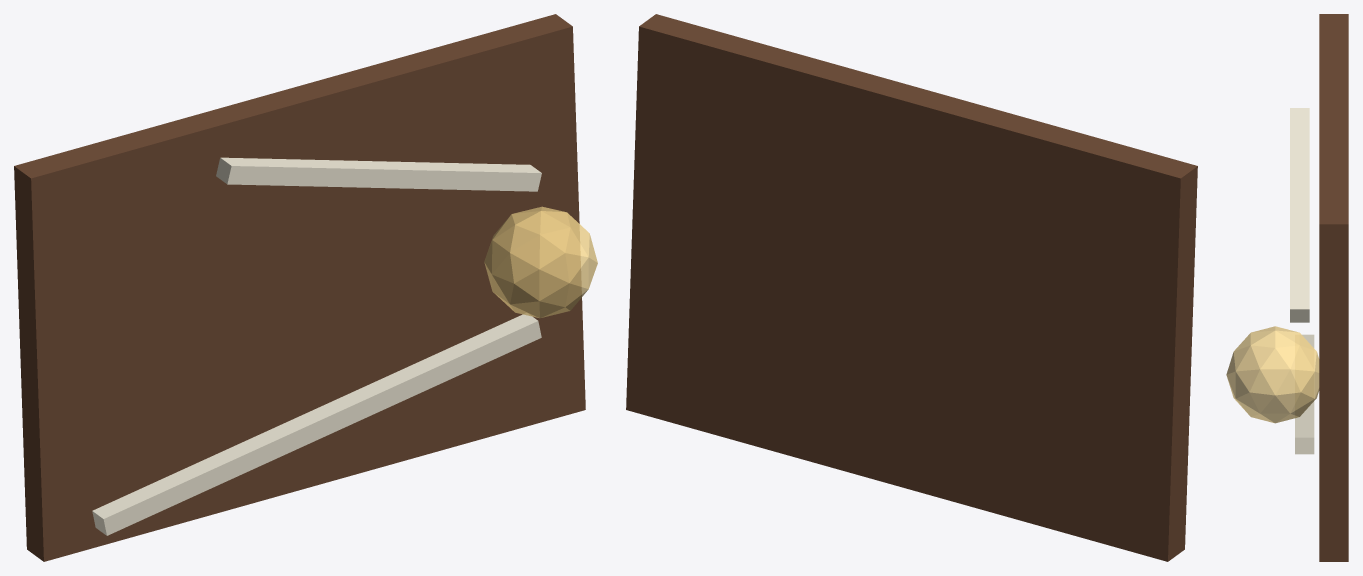
Rendered from 02_world_prop_polish.glb.
3 renders of one model, left to right at view 1: azimuth 30°, elevation 25°; view 2: azimuth 150°, elevation 25°; view 3: azimuth 270°, elevation 25°, orthographic. The views are drawn at different scales.
Parts seen in each view (by area): view 1: object_overlay_plate, edge_wear_a, glow_socket, edge_wear_b; view 2: object_overlay_plate; view 3: object_overlay_plate, glow_socket, edge_wear_b, edge_wear_a.
Boxes of the visible parts, box(x1,y1,x2,y2) form: object_overlay_plate: box(14, 14, 585, 561); edge_wear_a: box(92, 313, 541, 535); glow_socket: box(484, 206, 597, 318); edge_wear_b: box(216, 157, 541, 191); object_overlay_plate: box(626, 14, 1197, 561); object_overlay_plate: box(1319, 14, 1348, 561); glow_socket: box(1226, 326, 1319, 423); edge_wear_b: box(1290, 108, 1309, 322); edge_wear_a: box(1295, 334, 1314, 454).
Bounding box in the file's own units: 1.13 × 0.788 × 0.25.
